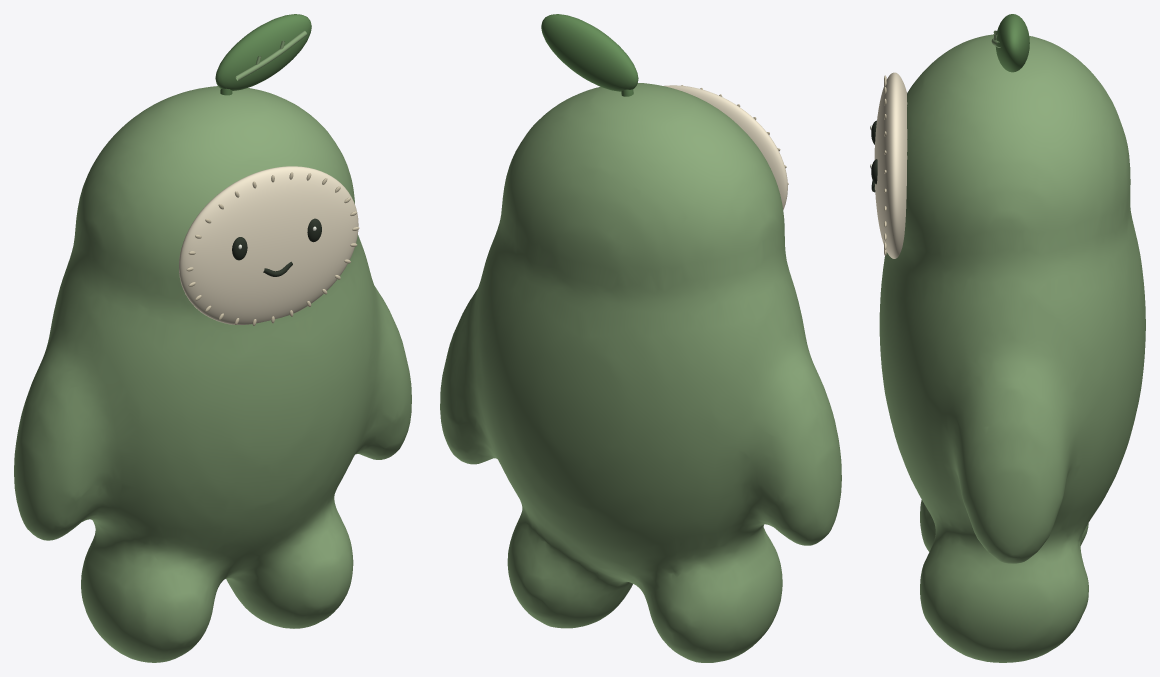
The model's file is moss-soft-v2.glb.
3 renders of one model, left to right at view 1: azimuth 30°, elevation 25°; view 2: azimuth 150°, elevation 25°; view 3: azimuth 270°, elevation 25°, orthographic. The views are drawn at different scales.
Parts seen in each view (by area): view 1: Moss continuous body, Linen face panel, Single leaf; view 2: Moss continuous body, Single leaf, Linen face panel; view 3: Moss continuous body, Linen face panel, Single leaf.
Boxes of the visible parts, bbox=[...] form: Moss continuous body: bbox=[14, 86, 411, 662]; Linen face panel: bbox=[179, 166, 358, 324]; Single leaf: bbox=[215, 14, 311, 90]; Moss continuous body: bbox=[440, 83, 841, 662]; Single leaf: bbox=[541, 14, 638, 91]; Linen face panel: bbox=[664, 85, 787, 209]; Moss continuous body: bbox=[879, 34, 1145, 662]; Linen face panel: bbox=[874, 72, 907, 258]; Single leaf: bbox=[995, 14, 1029, 72].
Bounding box in the file's own units: 1.28 × 1.92 × 0.756.
